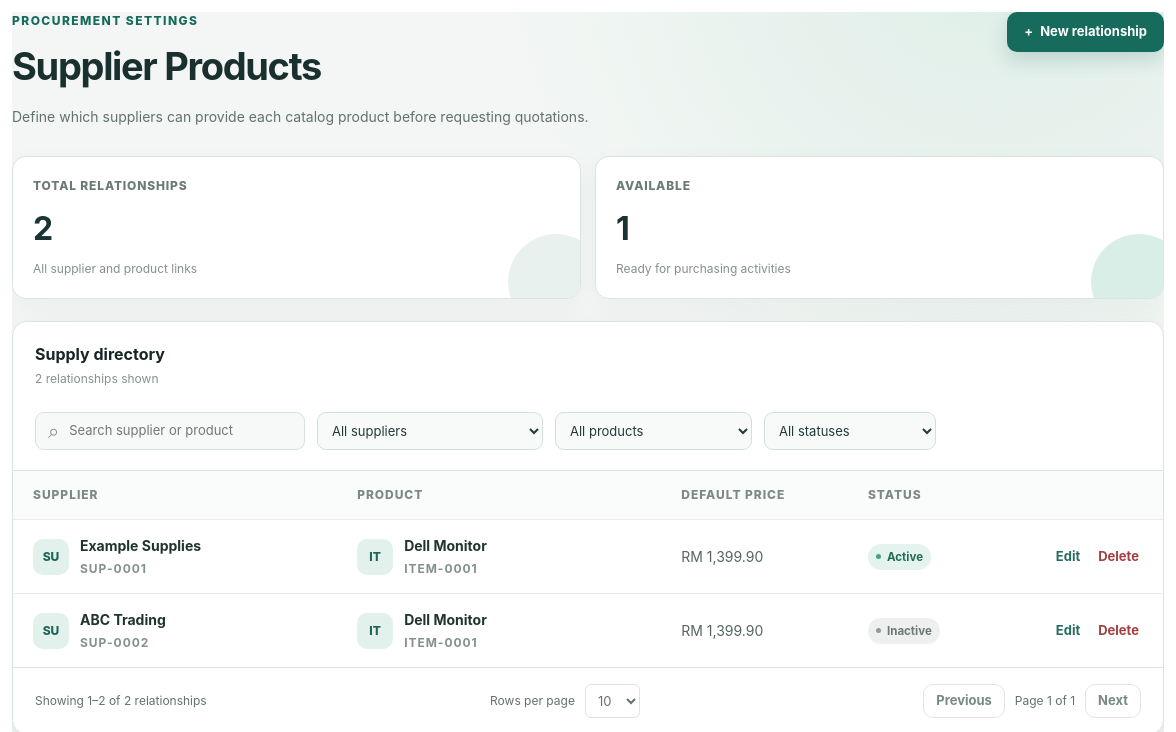
Test: SupplierProductListView › deletes only the selected relationship after confirmation
Click the button "Delete" in the row of "Example Supplies". click: (1119, 557)
box: [1094,543,1143,570]
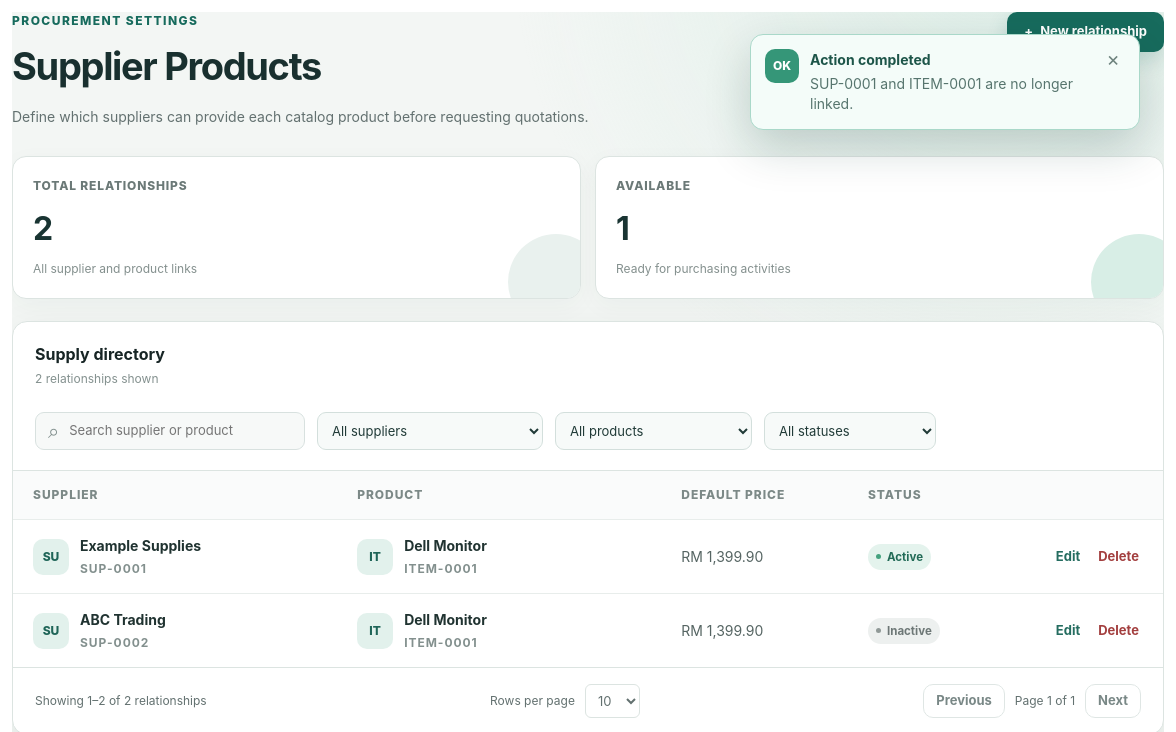
Now the message with class "success-toast" shows "are no longer linked", box [810,75,1073,112]
